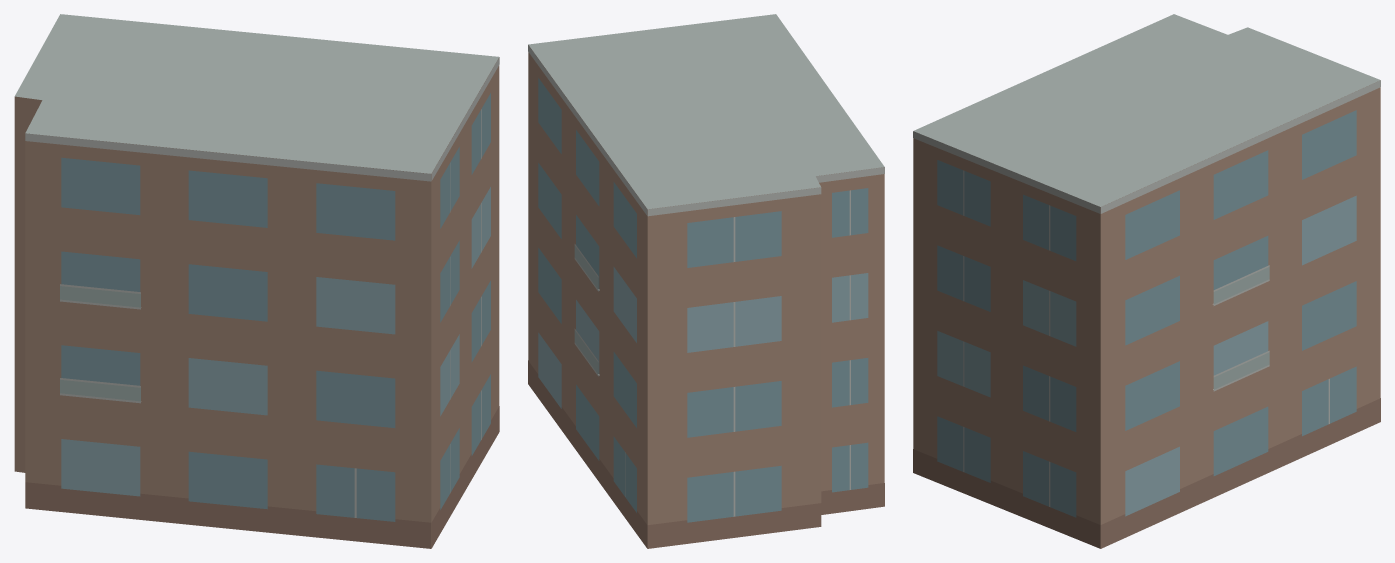
File: survey-upis-33009504.glb
The picture shows the model from 3 angles, left to right: view 1: azimuth 30°, elevation 25°; view 2: azimuth 150°, elevation 25°; view 3: azimuth 270°, elevation 25°; orthographic projection. The views are drawn at different scales.
Visible parts, largest first — view 1: survey-upis-33009504.tmp; view 2: survey-upis-33009504.tmp; view 3: survey-upis-33009504.tmp.
Boxes of the visible parts, bbox=[...] form: survey-upis-33009504.tmp: bbox=[14, 14, 499, 548]; survey-upis-33009504.tmp: bbox=[528, 14, 884, 548]; survey-upis-33009504.tmp: bbox=[913, 14, 1380, 548].
Size of the model in its own units: 14.36 by 11.85 by 14.7.
